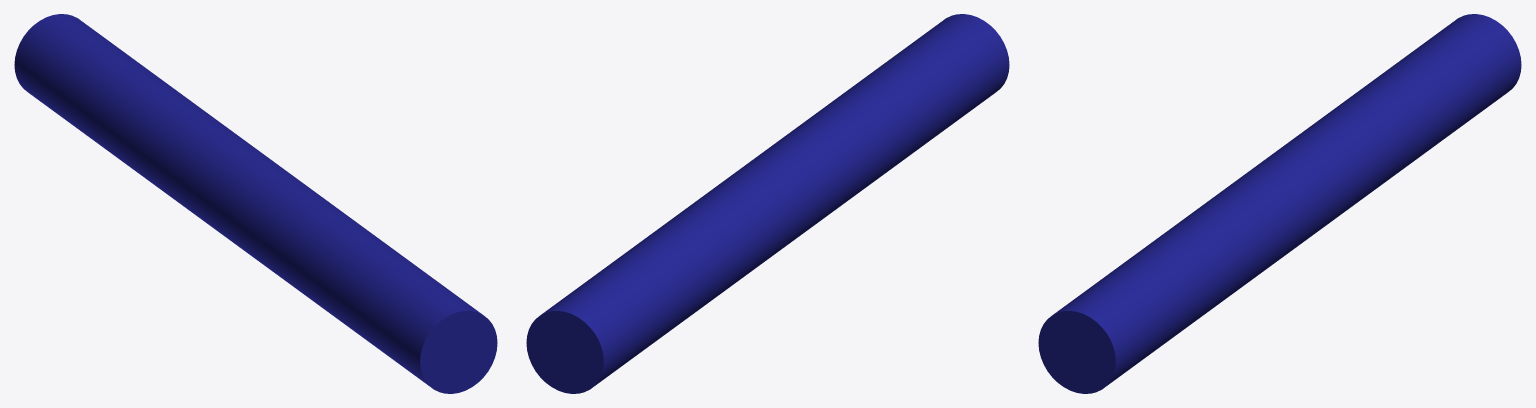
Rendered from Bullet blauw.fbx.
3 renders of one model, left to right at view 1: azimuth 30°, elevation 25°; view 2: azimuth 150°, elevation 25°; view 3: azimuth 330°, elevation 25°, orthographic.
Visible parts, largest first — view 1: Cylinder_1; view 2: Cylinder_1; view 3: Cylinder_1.
Part boxes in pixels (left/top/right/bottom): Cylinder_1: left=14, top=14, right=497, bottom=393; Cylinder_1: left=526, top=14, right=1009, bottom=393; Cylinder_1: left=1038, top=14, right=1521, bottom=393.
Bounding box in the file's own units: 14 × 14 × 127.
